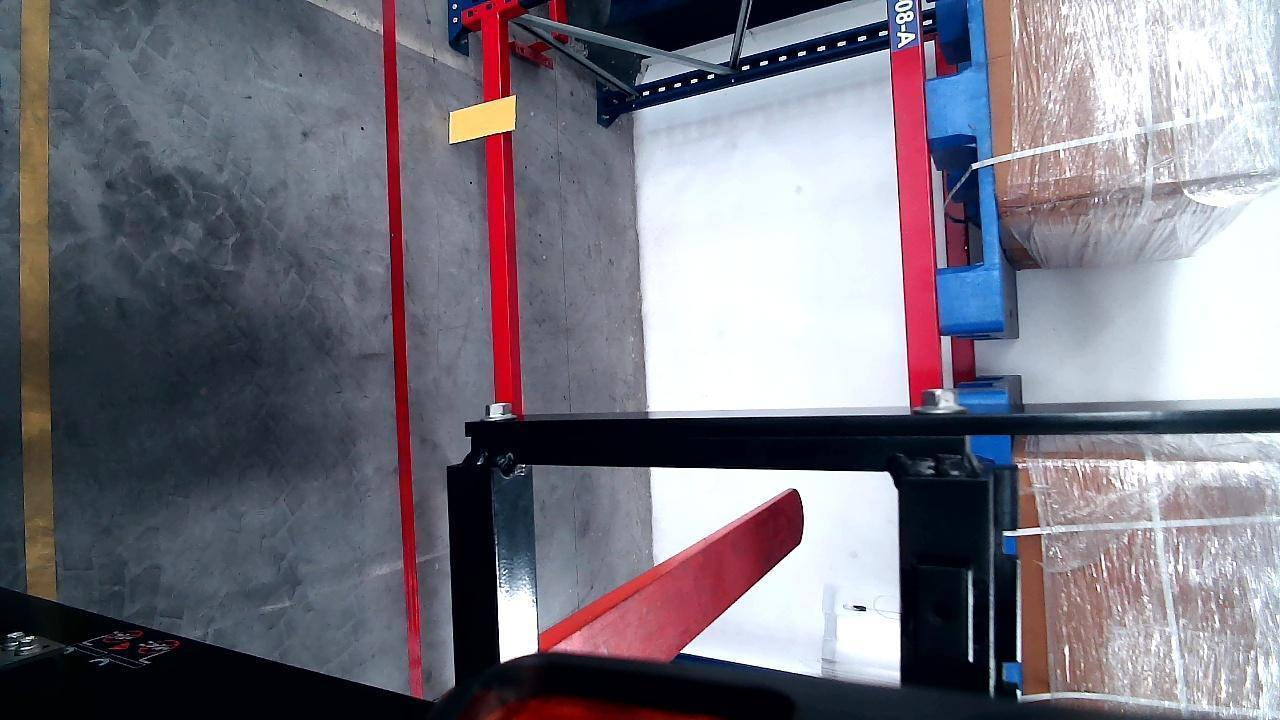red_line: (380, 0, 422, 688)
yellow_line: (18, 2, 55, 602)
